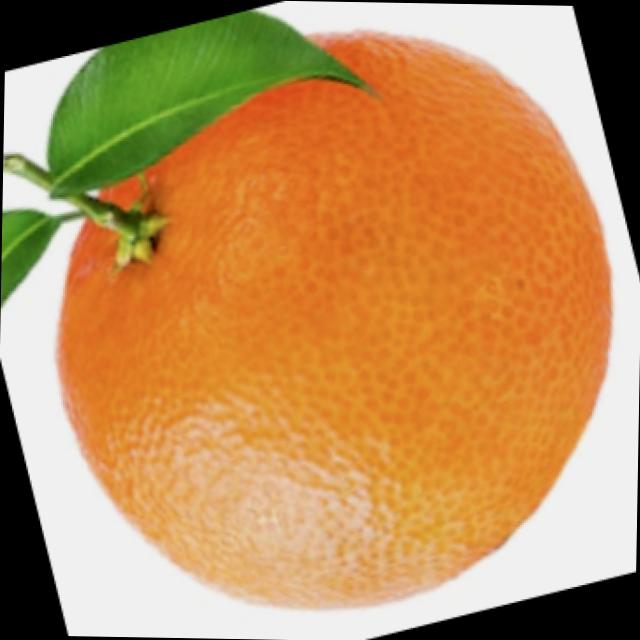orange: (25, 23, 616, 618)
